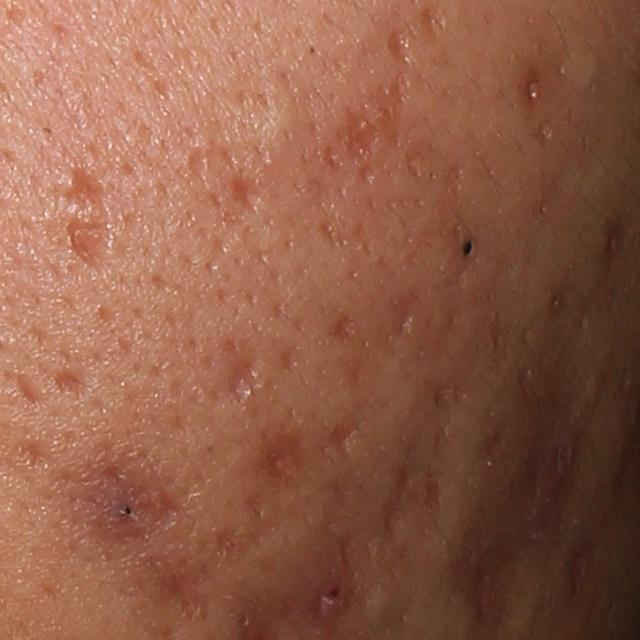atrophic_scar: (504, 388, 579, 550), (62, 163, 117, 271), (305, 174, 373, 261), (222, 64, 284, 135), (204, 194, 250, 269), (153, 570, 208, 622), (440, 274, 468, 369), (373, 69, 406, 149), (227, 354, 271, 412), (337, 101, 375, 165), (383, 470, 409, 558), (226, 170, 271, 219), (75, 443, 138, 478), (8, 435, 59, 476), (329, 413, 367, 467), (50, 367, 92, 406), (388, 21, 418, 70), (326, 310, 363, 345), (187, 147, 210, 195), (14, 372, 43, 409), (316, 145, 345, 174), (521, 65, 542, 105), (355, 163, 378, 185)
